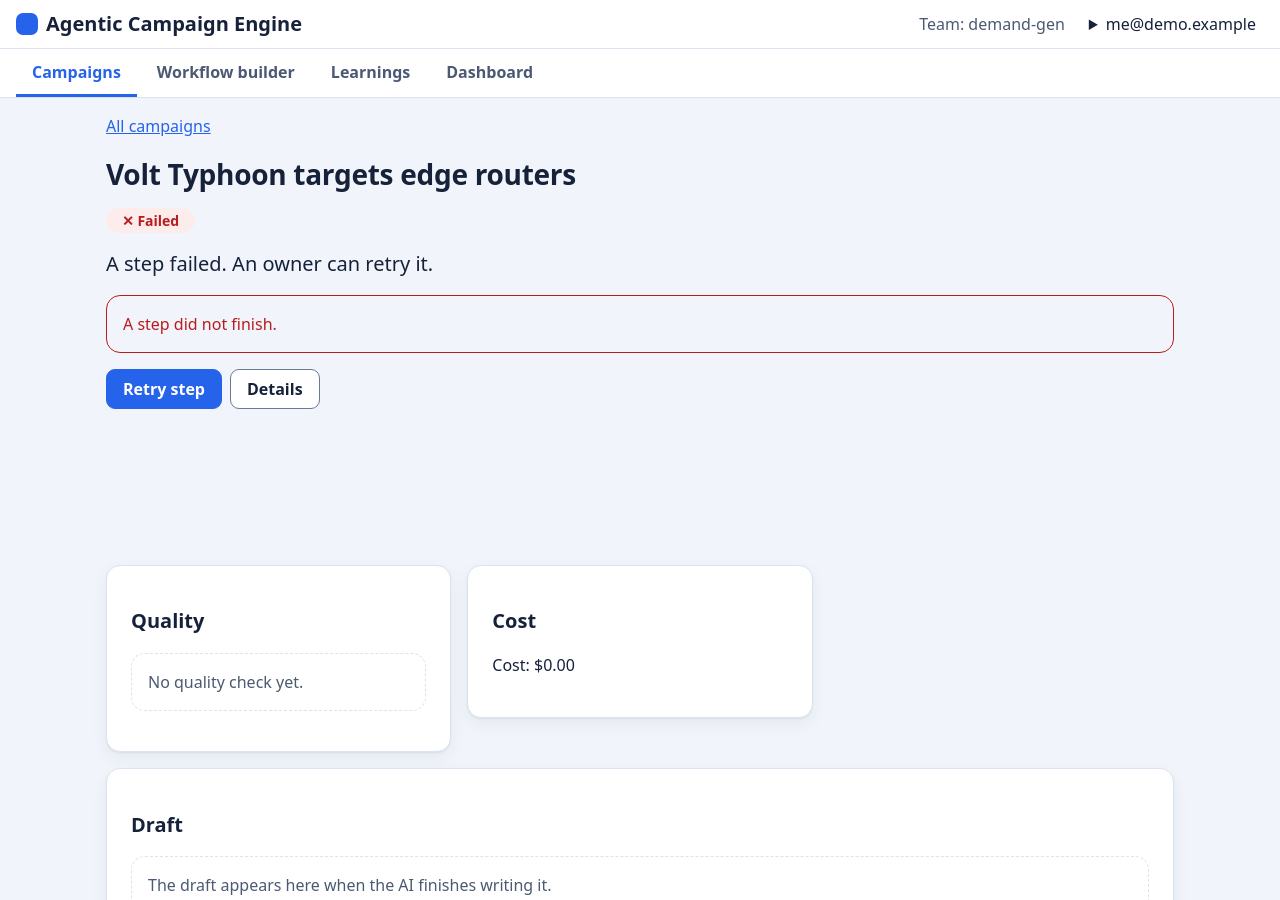
Test case: a request answered 401 returns to the signed-out screen
Click the button "Retry step" at (164, 389), box [106, 369, 222, 409]
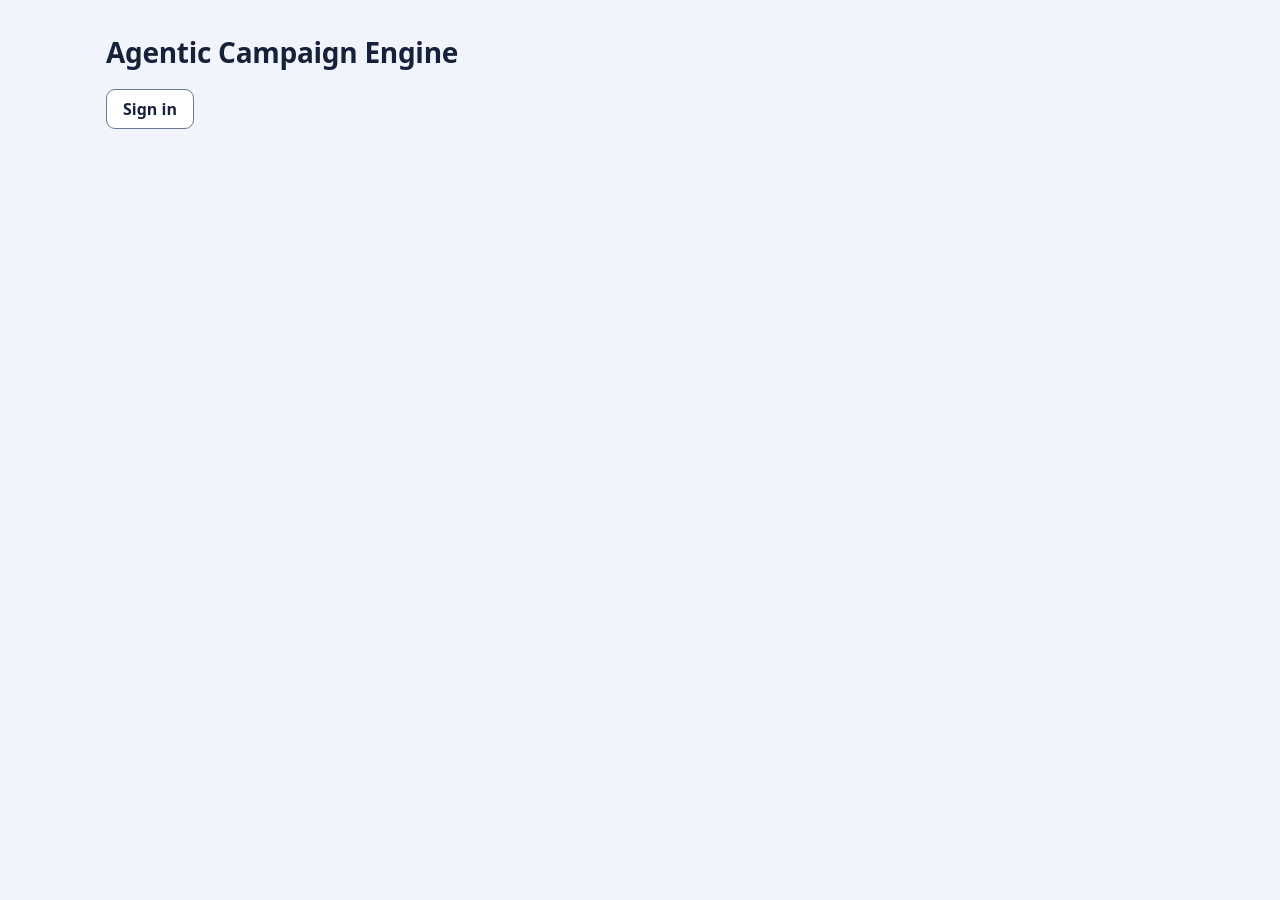
Now the button "Sign in" is shown, box [106, 88, 194, 128]
Now the text with test id "run-status" is gone
